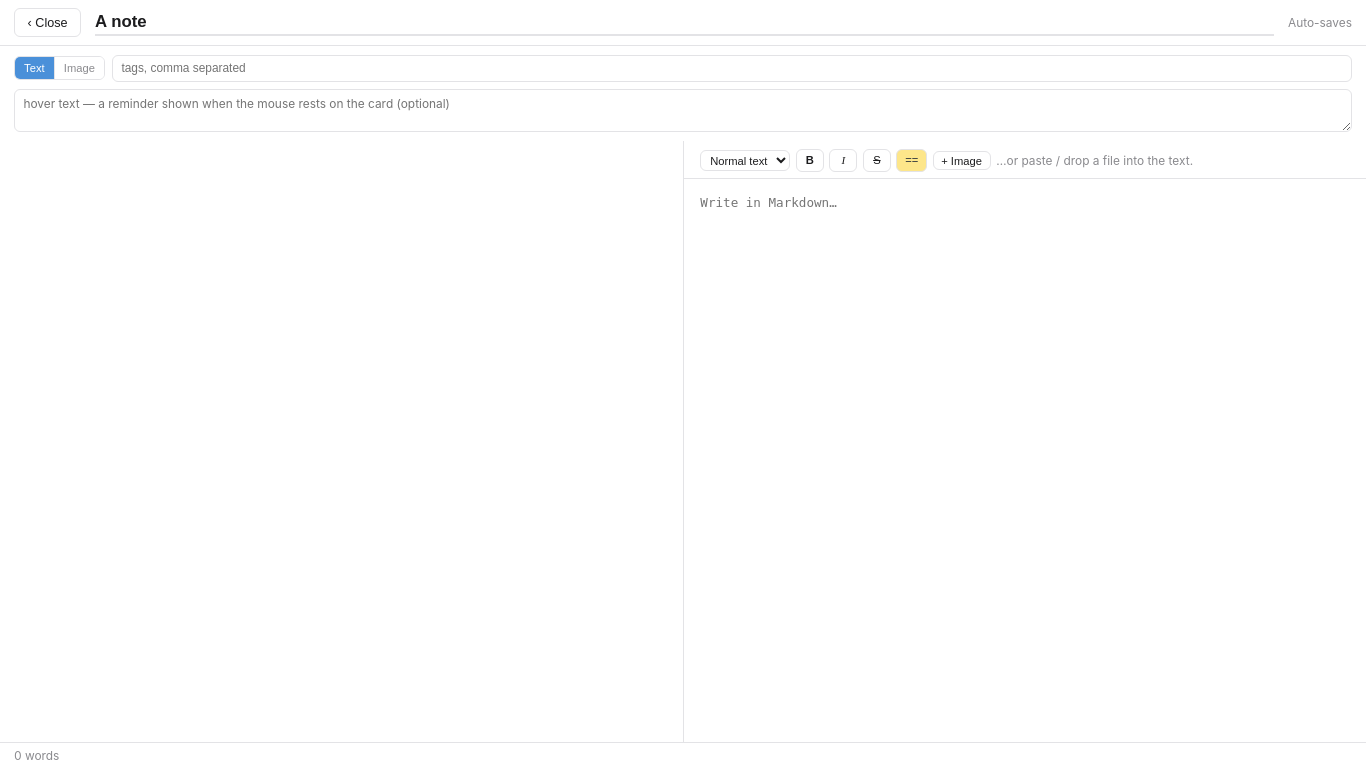
inserting an asset › surfaces an import failure instead of failing silently
Check: the text box with placeholder "Write in Markdown…" is empty, box x1=684 y1=179 x2=1365 y2=742
What coordinates should you click on to do the following:
click the button "+ Image"
I would click on:
 (962, 161)
Its box is x1=932 y1=151 x2=991 y2=170.
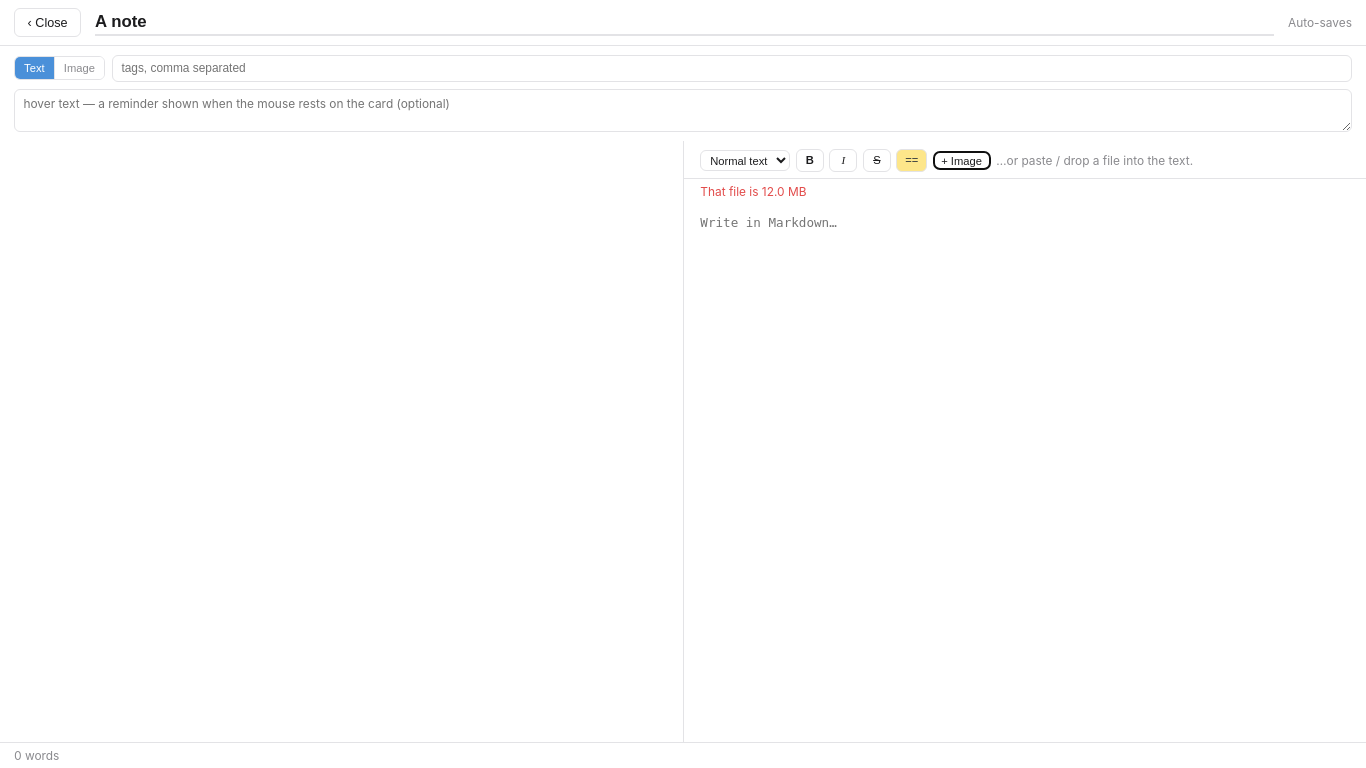
Check: the text "That file is 12.0 MB" is shown, box x1=700 y1=184 x2=806 y2=199
